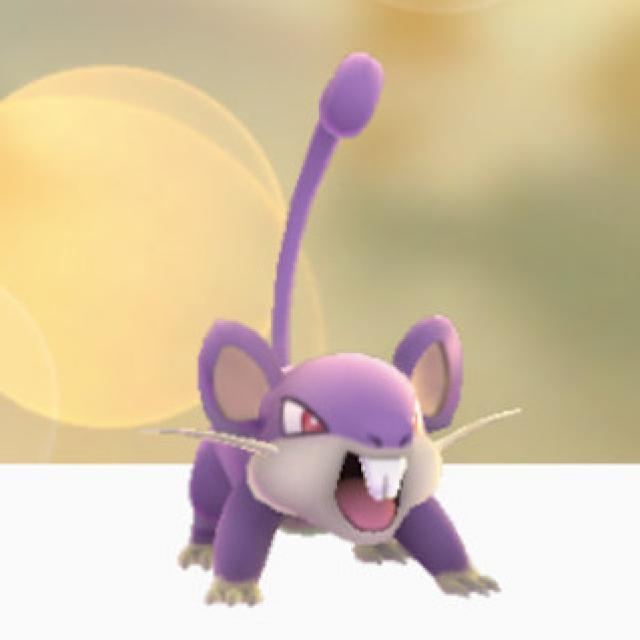Rattata: (191, 318, 499, 608)
